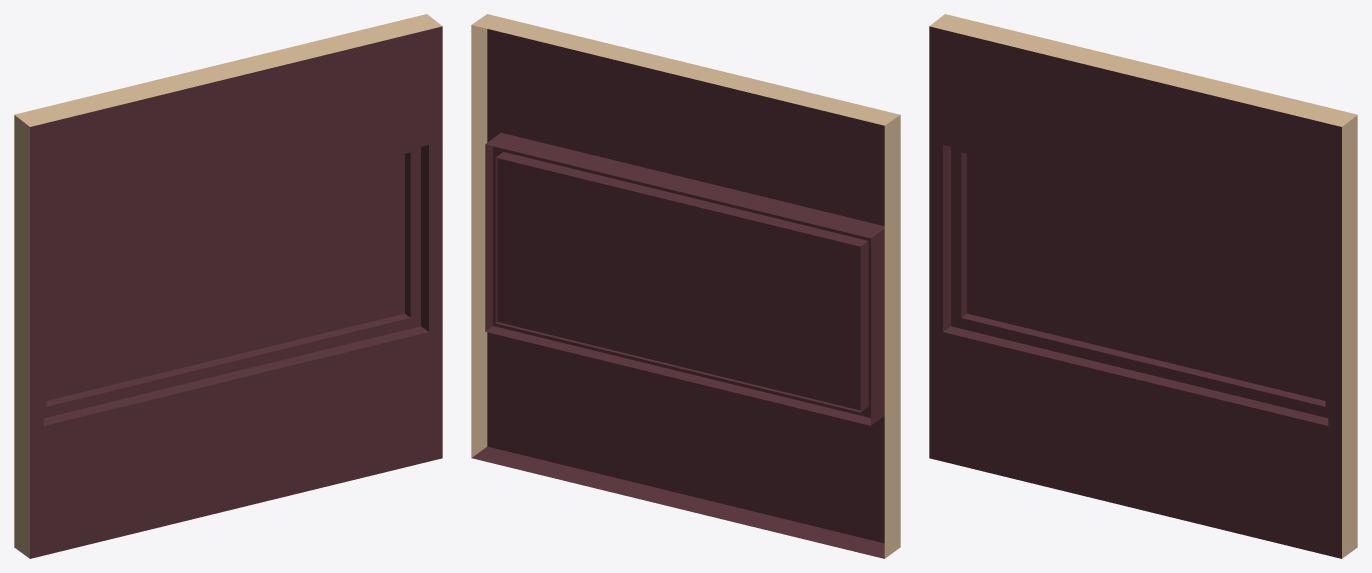
Rendered from house-wall-window-large-3x3m.fbx.
The picture shows the model from 3 angles, left to right: view 1: azimuth 30°, elevation 25°; view 2: azimuth 150°, elevation 25°; view 3: azimuth 330°, elevation 25°; orthographic projection.
Visible parts, largest first — view 1: house-wall-window-large-3x3m; view 2: house-wall-window-large-3x3m; view 3: house-wall-window-large-3x3m.
Boxes of the visible parts, bbox=[...] form: house-wall-window-large-3x3m: bbox=[14, 14, 442, 558]; house-wall-window-large-3x3m: bbox=[471, 14, 900, 558]; house-wall-window-large-3x3m: bbox=[929, 14, 1357, 558].
Size of the model in its own units: 3 by 3.01 by 0.2.
